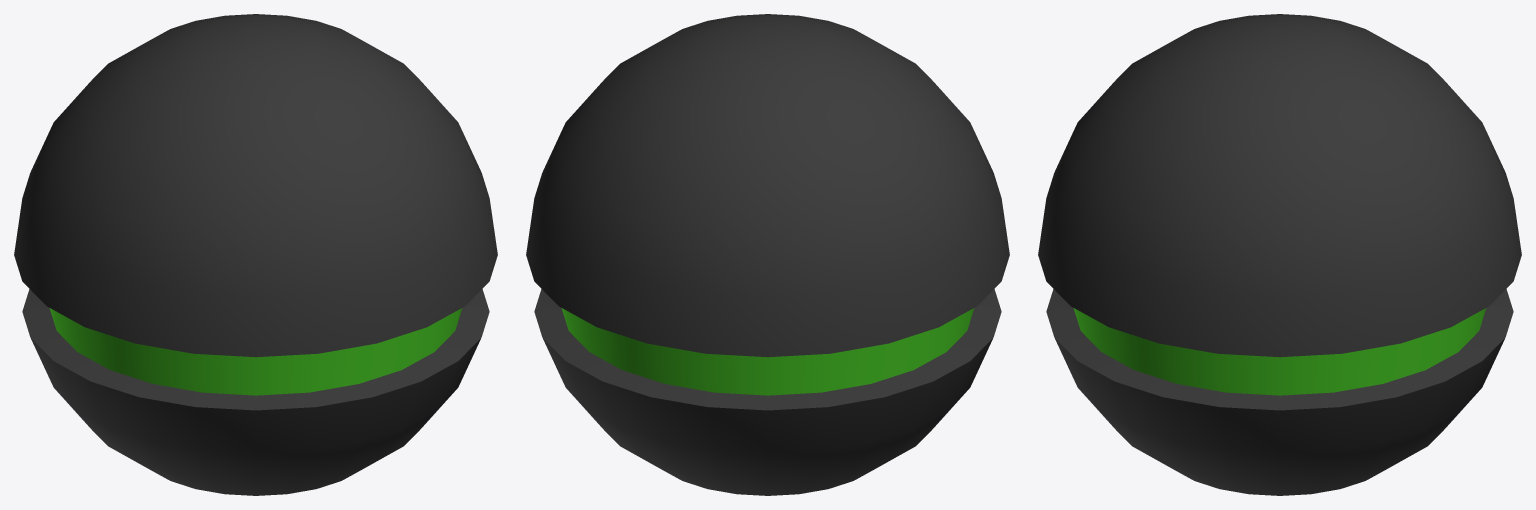
Rendered from ProtoAntiGrav.fbx.
3 views of the same model, side by side, from view 1: azimuth 30°, elevation 25°; view 2: azimuth 150°, elevation 25°; view 3: azimuth 270°, elevation 25° (orthographic).
Parts seen in each view (by area): view 1: ProtoAntiGrav; view 2: ProtoAntiGrav; view 3: ProtoAntiGrav.
Part boxes in pixels (bbox=[...]): ProtoAntiGrav: bbox=[14, 14, 497, 495]; ProtoAntiGrav: bbox=[526, 14, 1009, 495]; ProtoAntiGrav: bbox=[1038, 14, 1521, 495].
Bounding box in the file's own units: 78.26 × 73.02 × 78.26.
